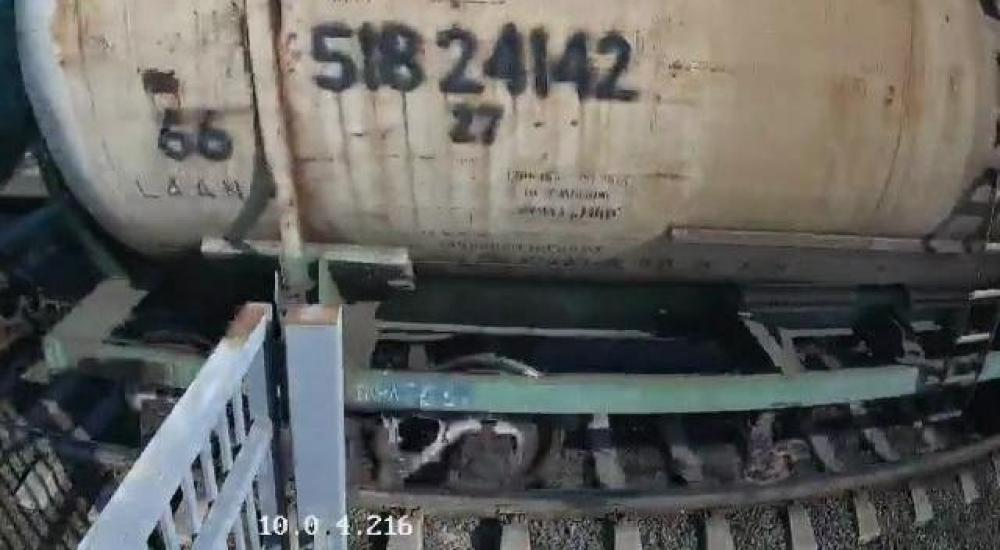Wagon-number: (302, 14, 642, 106)
